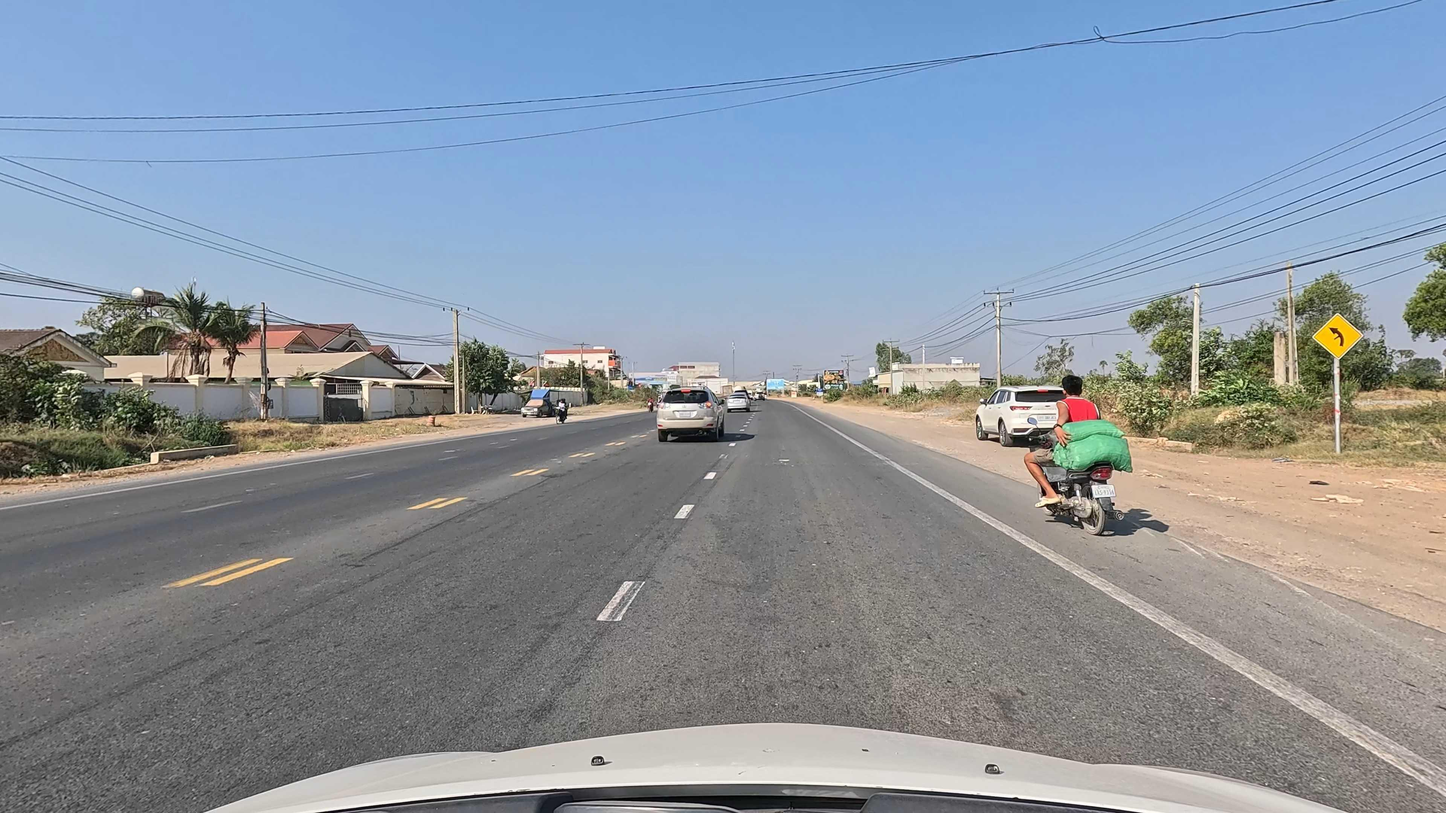sharp_curve_left: (1312, 313, 1364, 360)
